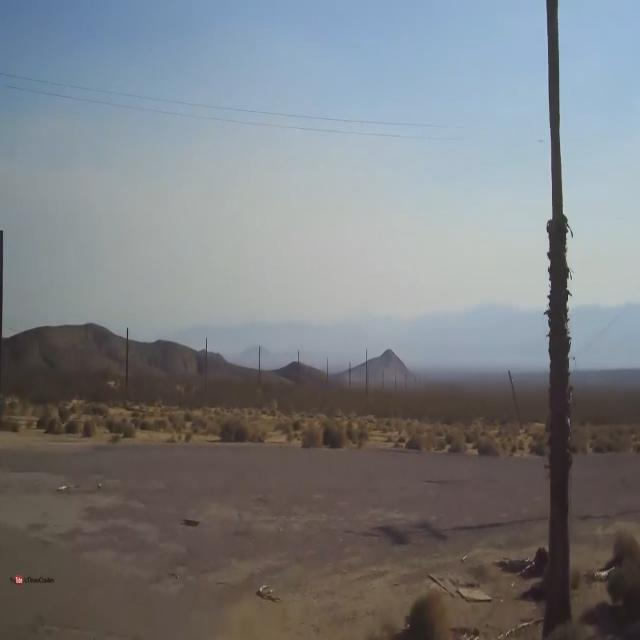Tree: (540, 0, 578, 640)
